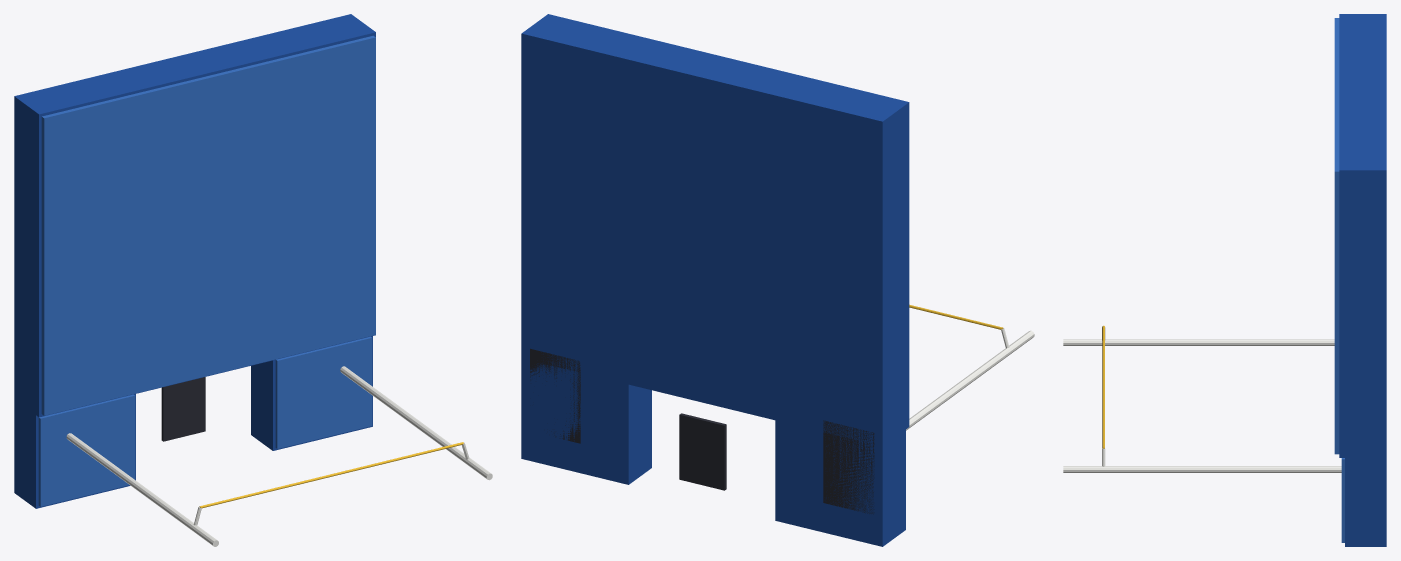
File: perche.glb
3 views of the same model, side by side, from view 1: azimuth 30°, elevation 25°; view 2: azimuth 150°, elevation 25°; view 3: azimuth 270°, elevation 25° (orthographic). The views are drawn at different scales.
Visible parts, largest first — view 1: housse, tapis, pan_dessus.001, pan_dessus, pan, butoir, pan.001, chandelier, chandelier.001, barre; view 2: tapis, pan.001, pan, base, butoir, base.001, chandelier; view 3: tapis, pan.001, housse, chandelier.001, chandelier.
Part boxes in pixels (left/top/right/bottom): housse: left=41, top=35, right=375, bottom=415; tapis: left=14, top=14, right=375, bottom=417; pan_dessus.001: left=275, top=336, right=372, bottom=448; pan_dessus: left=38, top=394, right=135, bottom=506; pan: left=14, top=394, right=135, bottom=508; butoir: left=161, top=377, right=205, bottom=441; pan.001: left=251, top=336, right=372, bottom=450; chandelier: left=66, top=433, right=218, bottom=546; chandelier.001: left=340, top=366, right=492, bottom=480; barre: left=199, top=442, right=463, bottom=508; tapis: left=521, top=14, right=909, bottom=446; pan.001: left=521, top=358, right=651, bottom=484; pan: left=775, top=420, right=905, bottom=546; base: left=823, top=420, right=874, bottom=514; butoir: left=679, top=413, right=726, bottom=490; base.001: left=530, top=348, right=580, bottom=443; chandelier: left=906, top=330, right=1034, bottom=430; tapis: left=1339, top=14, right=1386, bottom=457; pan.001: left=1345, top=458, right=1386, bottom=546; housse: left=1334, top=18, right=1339, bottom=454; chandelier.001: left=1063, top=466, right=1341, bottom=472; chandelier: left=1063, top=339, right=1334, bottom=345.
Size of the model in its own units: 6.4 by 7.2 by 5.6.
